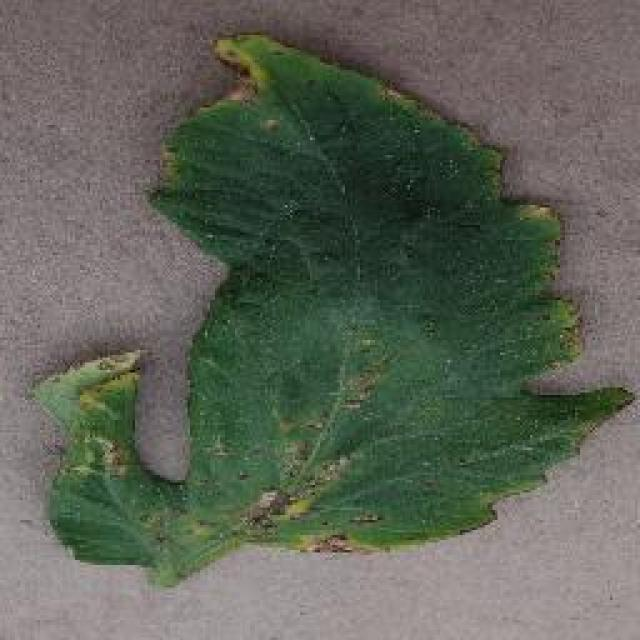bacterial spot: (37, 28, 635, 585)
